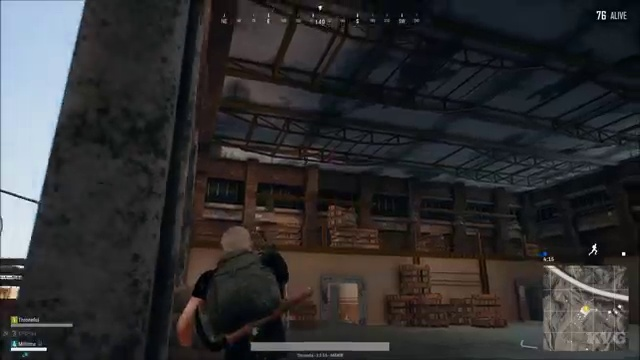Player: (184, 217, 319, 332)
